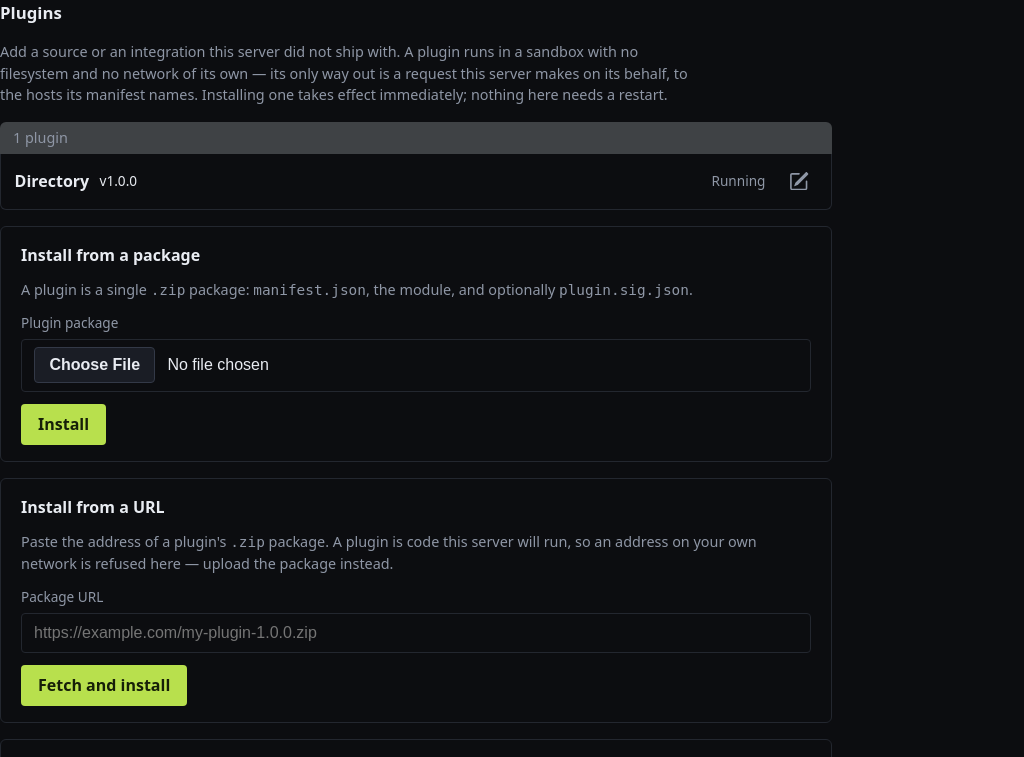
Scenario: uninstalling a Sign-in provider › confirms exactly the users it listed
Step 1. Click the button with test id "plugin-edit-directory" → (799, 181), box [781,163,817,199]
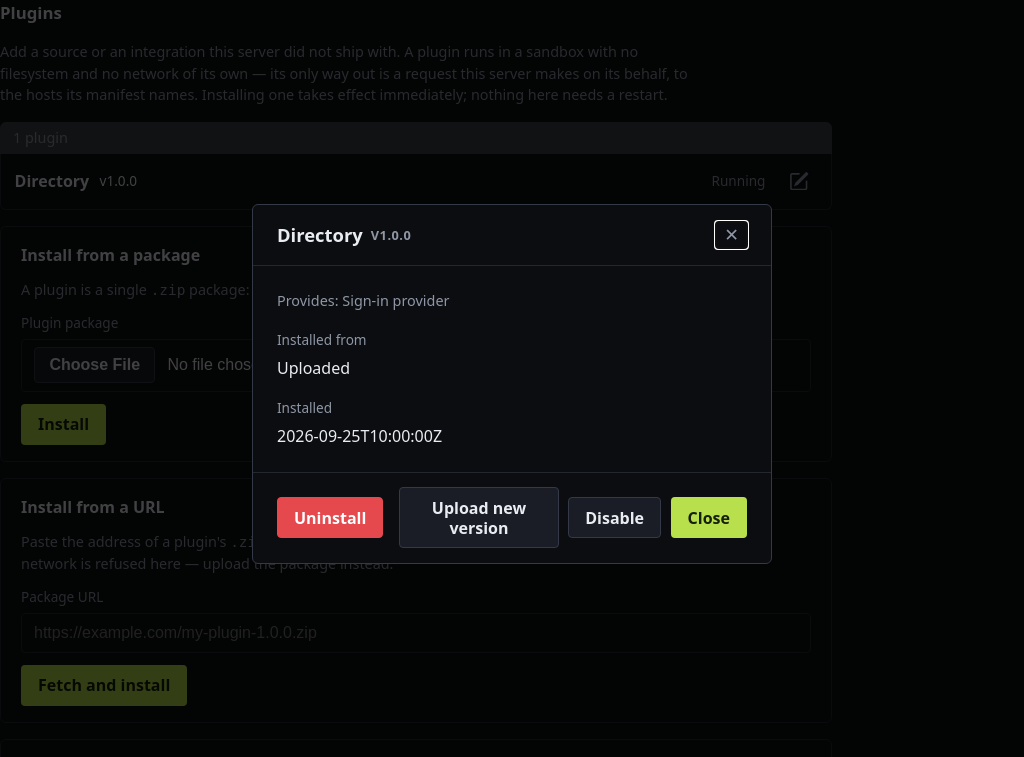
Step 2. Click the button with test id "plugin-uninstall-directory" → (330, 518), box [277,497,383,538]
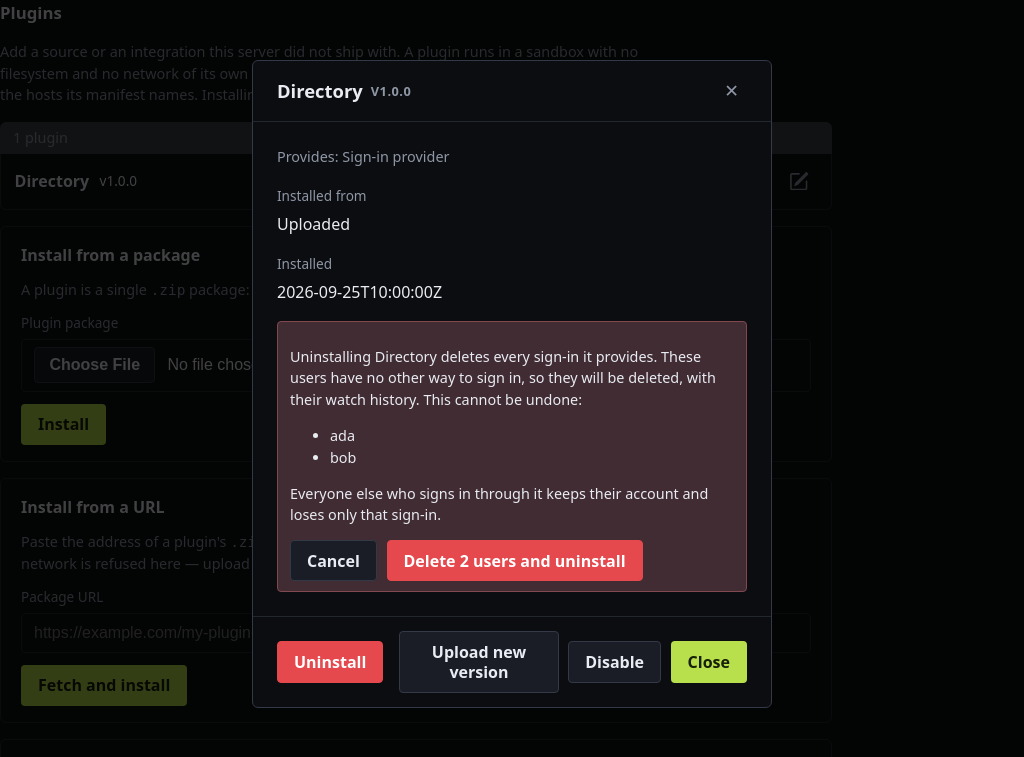
Step 3. Click the button with test id "plugin-uninstall-confirm-directory" → (514, 561), box [386,540,642,581]
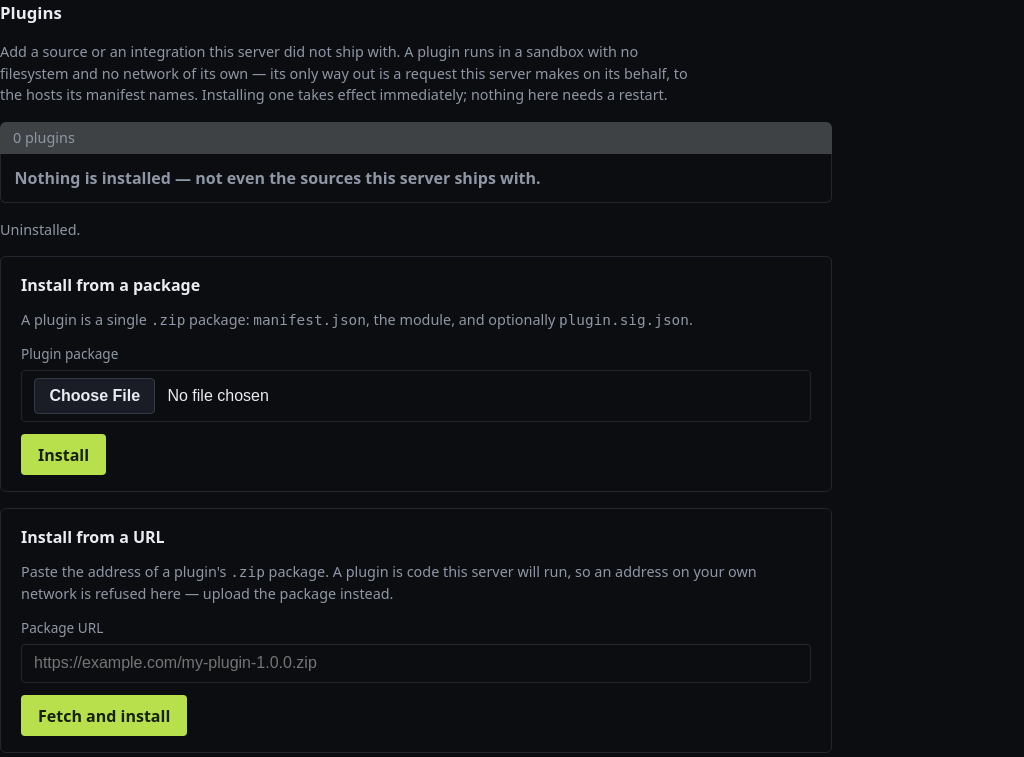
Check: the text with test id "plugins-empty" is shown, box [15,167,541,189]
